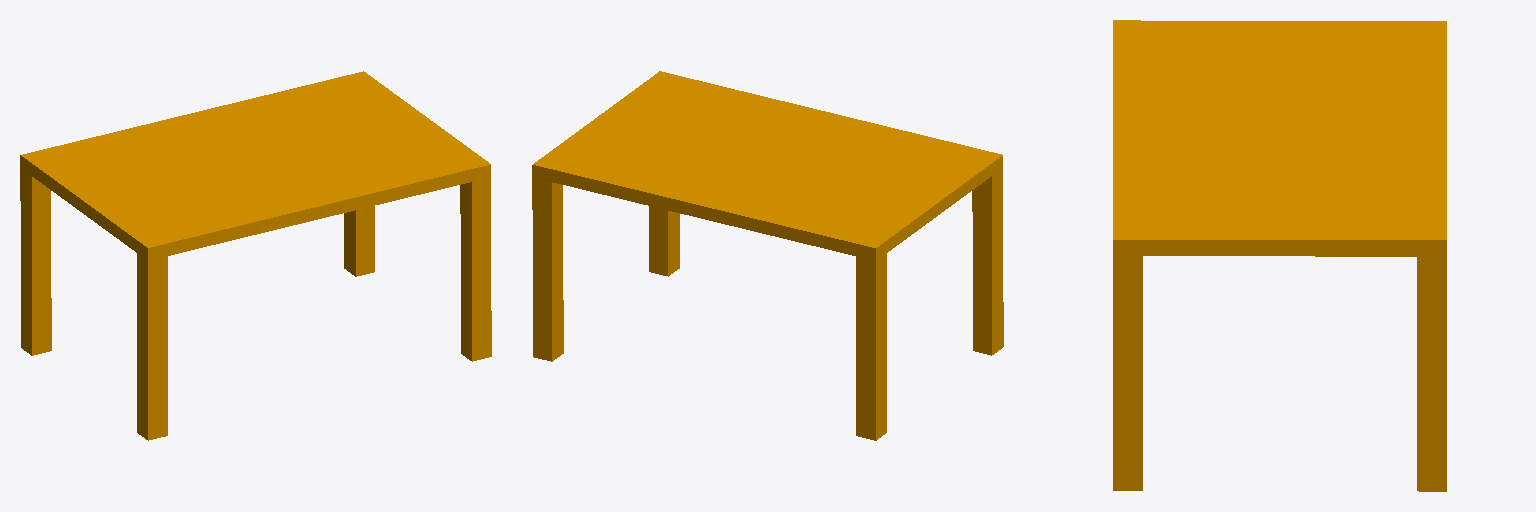
The robot description file, URDF, robot "none":
<robot name="none">
       <link name="none">
           <visual>
               <origin rpy="1.57 0 0" xyz="0 0 0" />
               <geometry>
                   <mesh filename="table4.obj" />
               </geometry>
           </visual>
          <collision>
              <geometry>
                  <box size="1.000000 0.535714 0.642857" />
              </geometry>
          </collision>

          <inertial>
            <mass value="0.0" />
            <inertia ixx="0.0" ixy="0.0" ixz="0.0" iyy="0.0" iyz="0.0" izz="0.0" />
          </inertial>
      </link>
  </robot>

--- Facts derived from the render (not from the file) ---
The picture shows the robot from 3 angles, left to right: view 1: azimuth 30°, elevation 25°; view 2: azimuth 150°, elevation 25°; view 3: azimuth 270°, elevation 25°; orthographic projection.
Robot: none — 1 links, 0 joints (none); root link none; default pose: every joint at zero.
Links seen in each view (by area): view 1: none; view 2: none; view 3: none.
Boxes of the visible links, x1,y1,x2,y2 form: none: [20, 71, 491, 440]; none: [532, 71, 1003, 440]; none: [1113, 20, 1446, 491].
Bounding box of the posed robot: 1 × 0.6433 × 0.5362 m (x, y, z).
1 mesh visuals loaded from 1 distinct referenced files (1 OBJ).